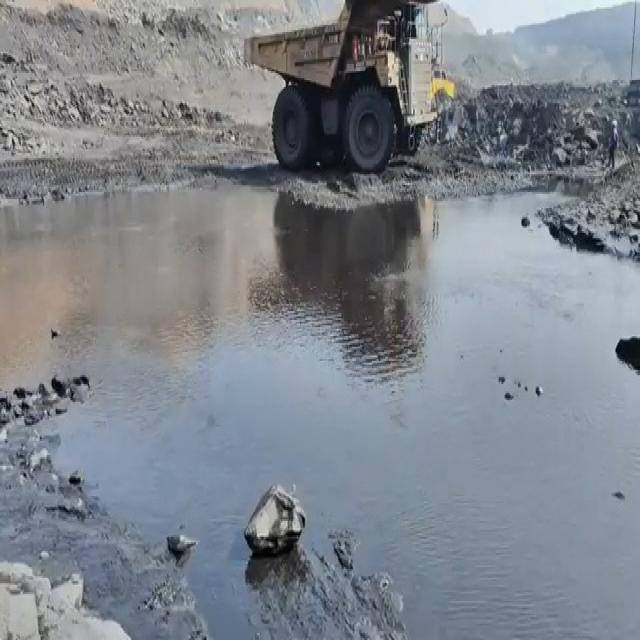dump_truck: (238, 0, 445, 189)
